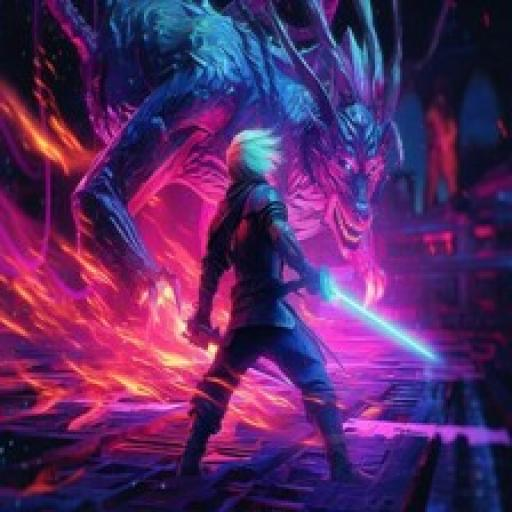lightsaber: (312, 270, 439, 368)
